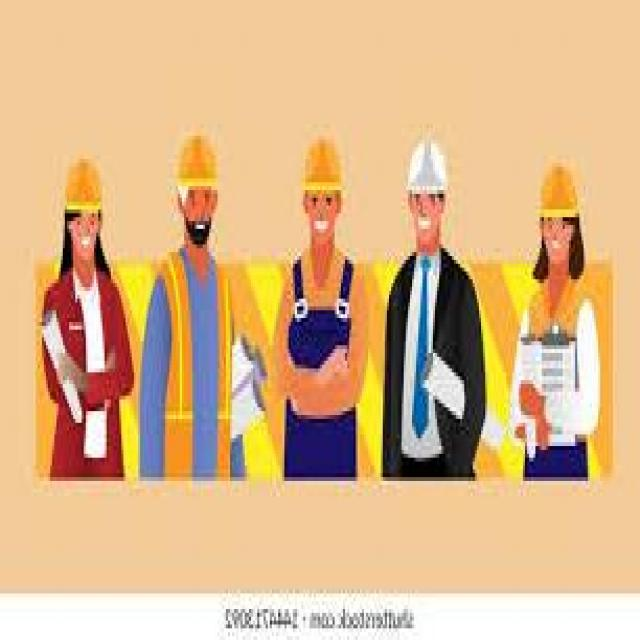Reflective-Jacket: (36, 260, 154, 485)
Safety-Helmet: (52, 143, 109, 229), (167, 120, 224, 202), (297, 116, 349, 202), (534, 151, 584, 229), (402, 128, 452, 202)
